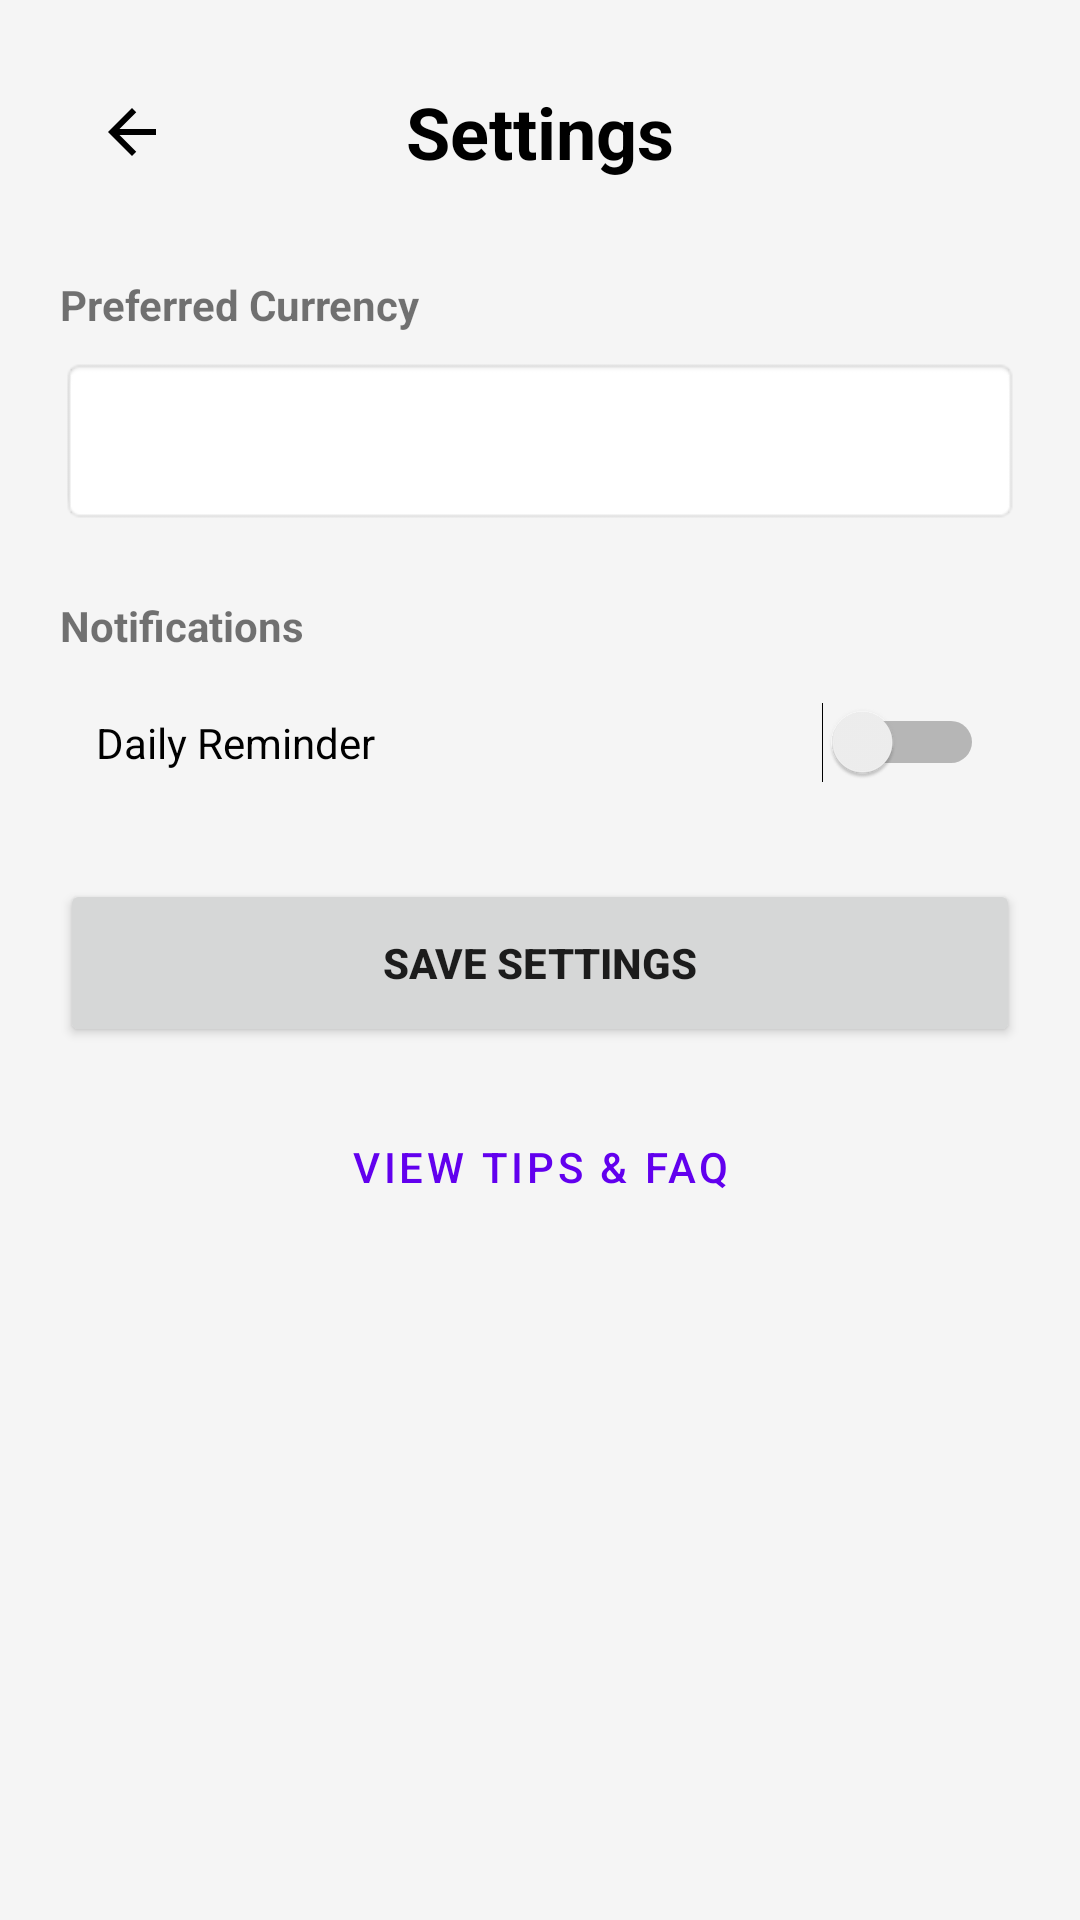

Icons on this 1080px×1920px Android screen, each with the point to tap as (x=x, y=y):
arrow back: (x=132, y=132)
